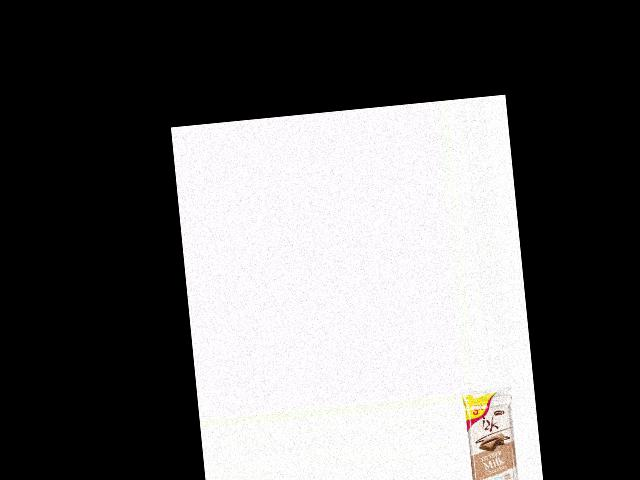chocolate: (461, 386, 523, 480)
